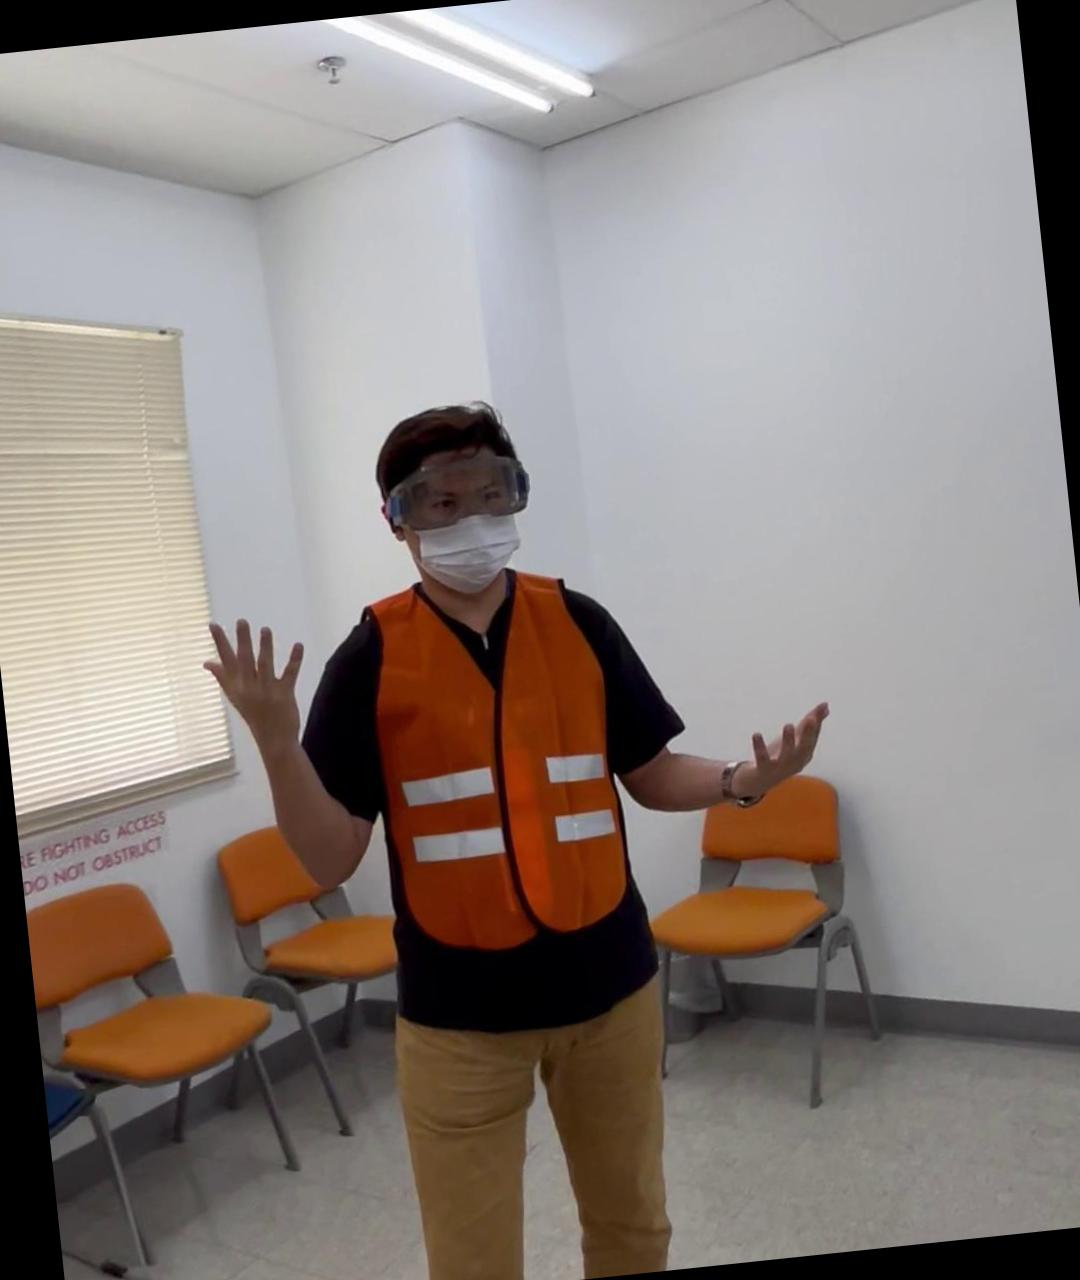No-gloves: (193, 600, 320, 750), (724, 693, 840, 804)
